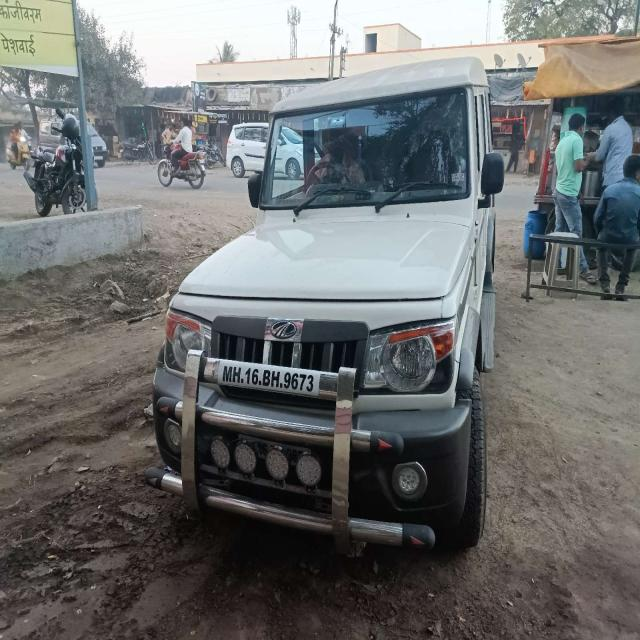light_vehicle: (157, 92, 483, 529)
